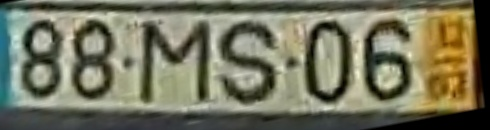0: (300, 16, 355, 108)
6: (359, 16, 415, 105)
8: (68, 17, 119, 102), (18, 15, 67, 102)
M: (136, 18, 212, 105)
S: (216, 16, 281, 107)
